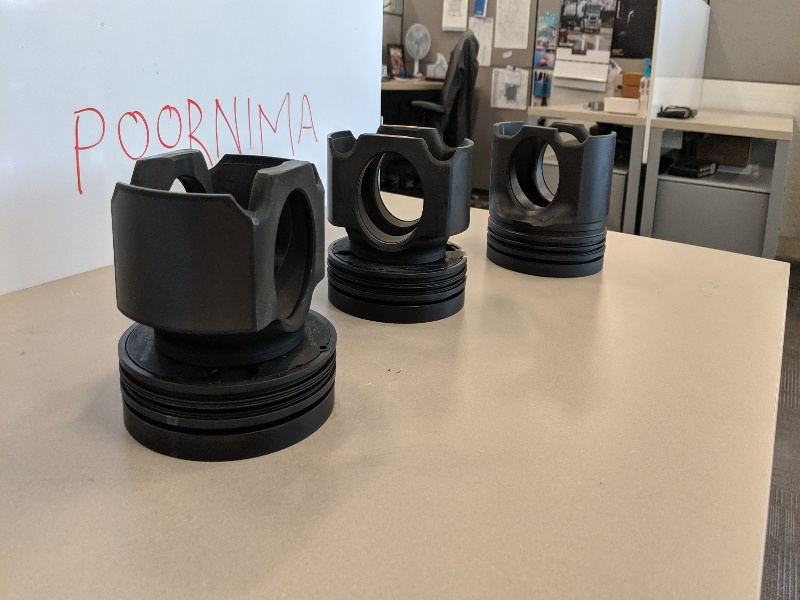piston: (103, 150, 343, 467), (318, 117, 479, 328), (487, 116, 620, 283)
